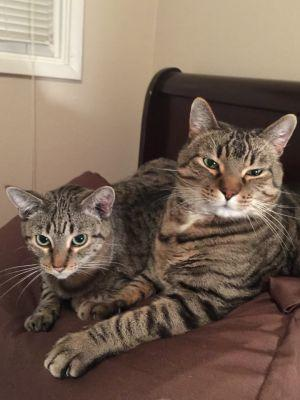bengal: (159, 88, 300, 226)
